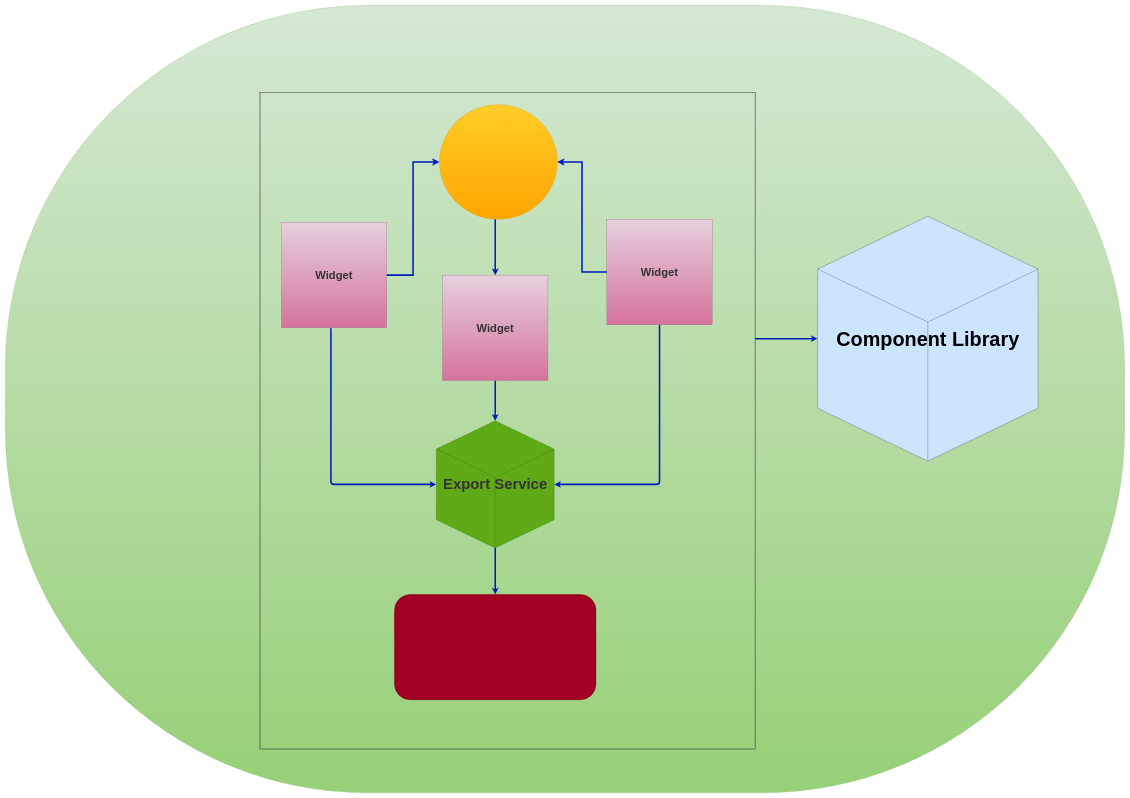
Some shapes in this 1130 by 798 pixel diagram are drawn without their labels. Each missing label, with the centre of its shape:
"Github API Provider" belongs at point (498, 161).
"Widget Export" belongs at point (495, 647).
